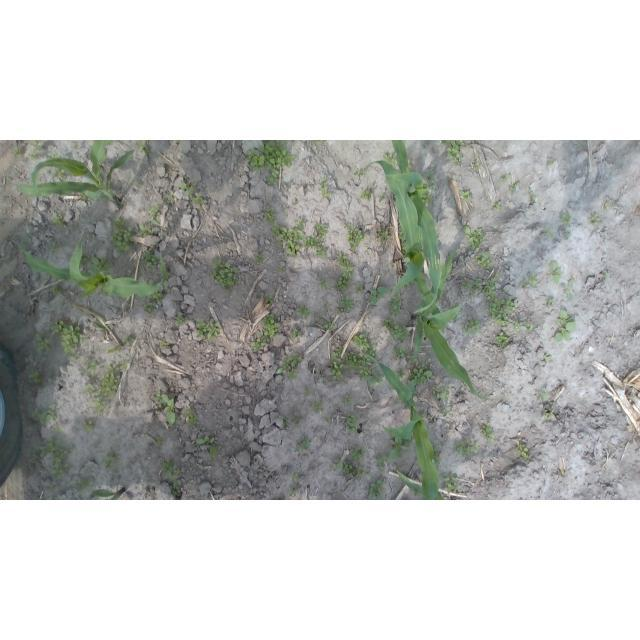Maize: (366, 159, 447, 333), (413, 249, 496, 404), (362, 353, 440, 500), (19, 233, 168, 298), (392, 141, 441, 314), (15, 140, 133, 205), (397, 470, 444, 500), (92, 486, 127, 500)
Weeds: (244, 141, 294, 190), (40, 437, 71, 479), (50, 320, 86, 356), (209, 258, 241, 292), (99, 361, 128, 396), (110, 218, 135, 253), (153, 391, 177, 426), (489, 296, 516, 327), (275, 352, 303, 380), (346, 352, 373, 381), (336, 251, 355, 291), (554, 310, 576, 342), (345, 222, 368, 252), (304, 236, 329, 261), (387, 435, 411, 461), (350, 334, 377, 357), (383, 317, 409, 339), (194, 318, 220, 340), (285, 228, 304, 258), (259, 313, 280, 340), (409, 364, 432, 388), (463, 225, 485, 250), (31, 406, 58, 425), (483, 274, 499, 303), (196, 435, 217, 457), (447, 140, 465, 165), (161, 457, 180, 480), (440, 472, 459, 494), (271, 220, 288, 244), (140, 249, 160, 269), (370, 286, 389, 307), (90, 256, 113, 273), (388, 295, 404, 317), (549, 260, 563, 285), (456, 440, 479, 455), (35, 331, 52, 351), (368, 479, 384, 500), (463, 316, 481, 334), (431, 383, 449, 401), (345, 414, 360, 435), (481, 422, 496, 443), (560, 278, 574, 300), (331, 347, 345, 369), (336, 296, 353, 314), (366, 371, 384, 388), (319, 175, 332, 198), (294, 436, 312, 452), (263, 205, 278, 224), (148, 204, 161, 225), (516, 440, 529, 461), (376, 228, 392, 245), (476, 251, 491, 269), (398, 228, 408, 254), (102, 453, 118, 469), (423, 172, 438, 189), (495, 332, 510, 349), (250, 338, 267, 353), (93, 396, 108, 413), (178, 181, 196, 195), (522, 272, 540, 286), (382, 152, 398, 167), (393, 344, 409, 359), (77, 477, 94, 491), (419, 192, 433, 209), (184, 408, 198, 425), (332, 363, 345, 381), (137, 140, 151, 156), (84, 358, 98, 373), (559, 212, 572, 228), (470, 278, 482, 295), (52, 213, 65, 228), (350, 446, 365, 459), (432, 444, 441, 465), (296, 306, 313, 317), (171, 480, 182, 497), (278, 415, 291, 429), (315, 222, 328, 236), (323, 320, 337, 333), (312, 400, 325, 414), (139, 224, 154, 236), (544, 223, 555, 239), (342, 460, 353, 476), (53, 165, 65, 179), (459, 189, 473, 201), (359, 188, 373, 200), (377, 454, 388, 469), (176, 311, 187, 326), (293, 411, 302, 429), (79, 252, 89, 268), (590, 214, 603, 226), (151, 289, 164, 301), (191, 194, 205, 205), (144, 299, 155, 313), (50, 284, 62, 296), (331, 460, 342, 473), (28, 371, 41, 382), (120, 335, 134, 345), (291, 324, 301, 338), (106, 347, 123, 355), (83, 419, 94, 431), (255, 252, 265, 264), (522, 321, 534, 331), (295, 217, 305, 229), (356, 168, 369, 177), (85, 383, 94, 396), (512, 181, 520, 195), (354, 467, 365, 477), (155, 435, 165, 445), (461, 277, 471, 287), (319, 279, 329, 289), (544, 409, 553, 420), (528, 189, 536, 201), (48, 150, 57, 160), (264, 293, 273, 303), (356, 283, 365, 293), (29, 140, 40, 148), (166, 192, 174, 203), (492, 201, 500, 212), (344, 395, 352, 406), (473, 160, 482, 169), (512, 321, 520, 331), (538, 390, 548, 398), (540, 355, 553, 361), (407, 355, 418, 362), (29, 151, 38, 159), (396, 371, 405, 379), (69, 444, 77, 453), (501, 173, 511, 180), (408, 158, 413, 171), (48, 484, 56, 492), (413, 490, 422, 497), (442, 408, 451, 415), (13, 148, 20, 156), (546, 299, 554, 306), (304, 390, 313, 396), (603, 202, 609, 211), (51, 243, 57, 252), (312, 140, 325, 144), (290, 471, 296, 479), (440, 140, 451, 144), (603, 272, 609, 279), (547, 159, 553, 165), (380, 193, 384, 202), (162, 343, 169, 348), (323, 416, 330, 421), (56, 427, 61, 433), (160, 229, 164, 236), (323, 304, 328, 309), (168, 288, 173, 293), (279, 267, 283, 273)
